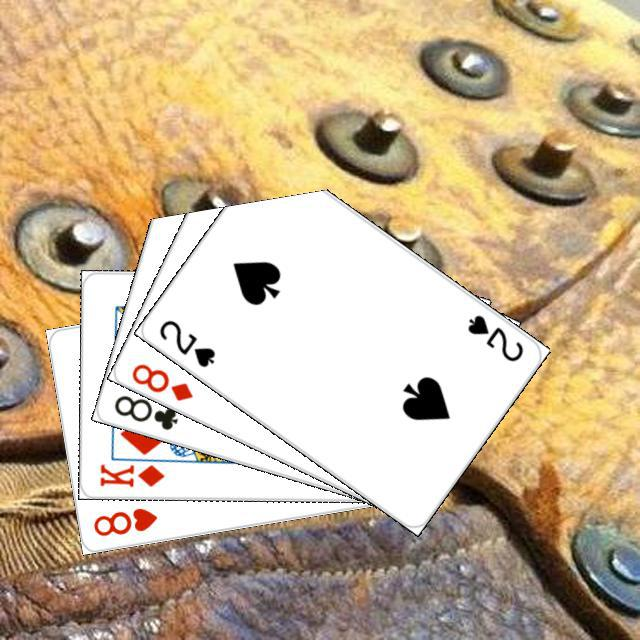2s: (462, 309, 526, 364), (154, 315, 217, 370)
8c: (109, 390, 180, 432)
8d: (126, 358, 195, 403)
8h: (88, 502, 159, 538)
Kd: (95, 459, 166, 489)
